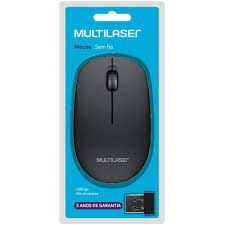mouse: (68, 47, 153, 187)
